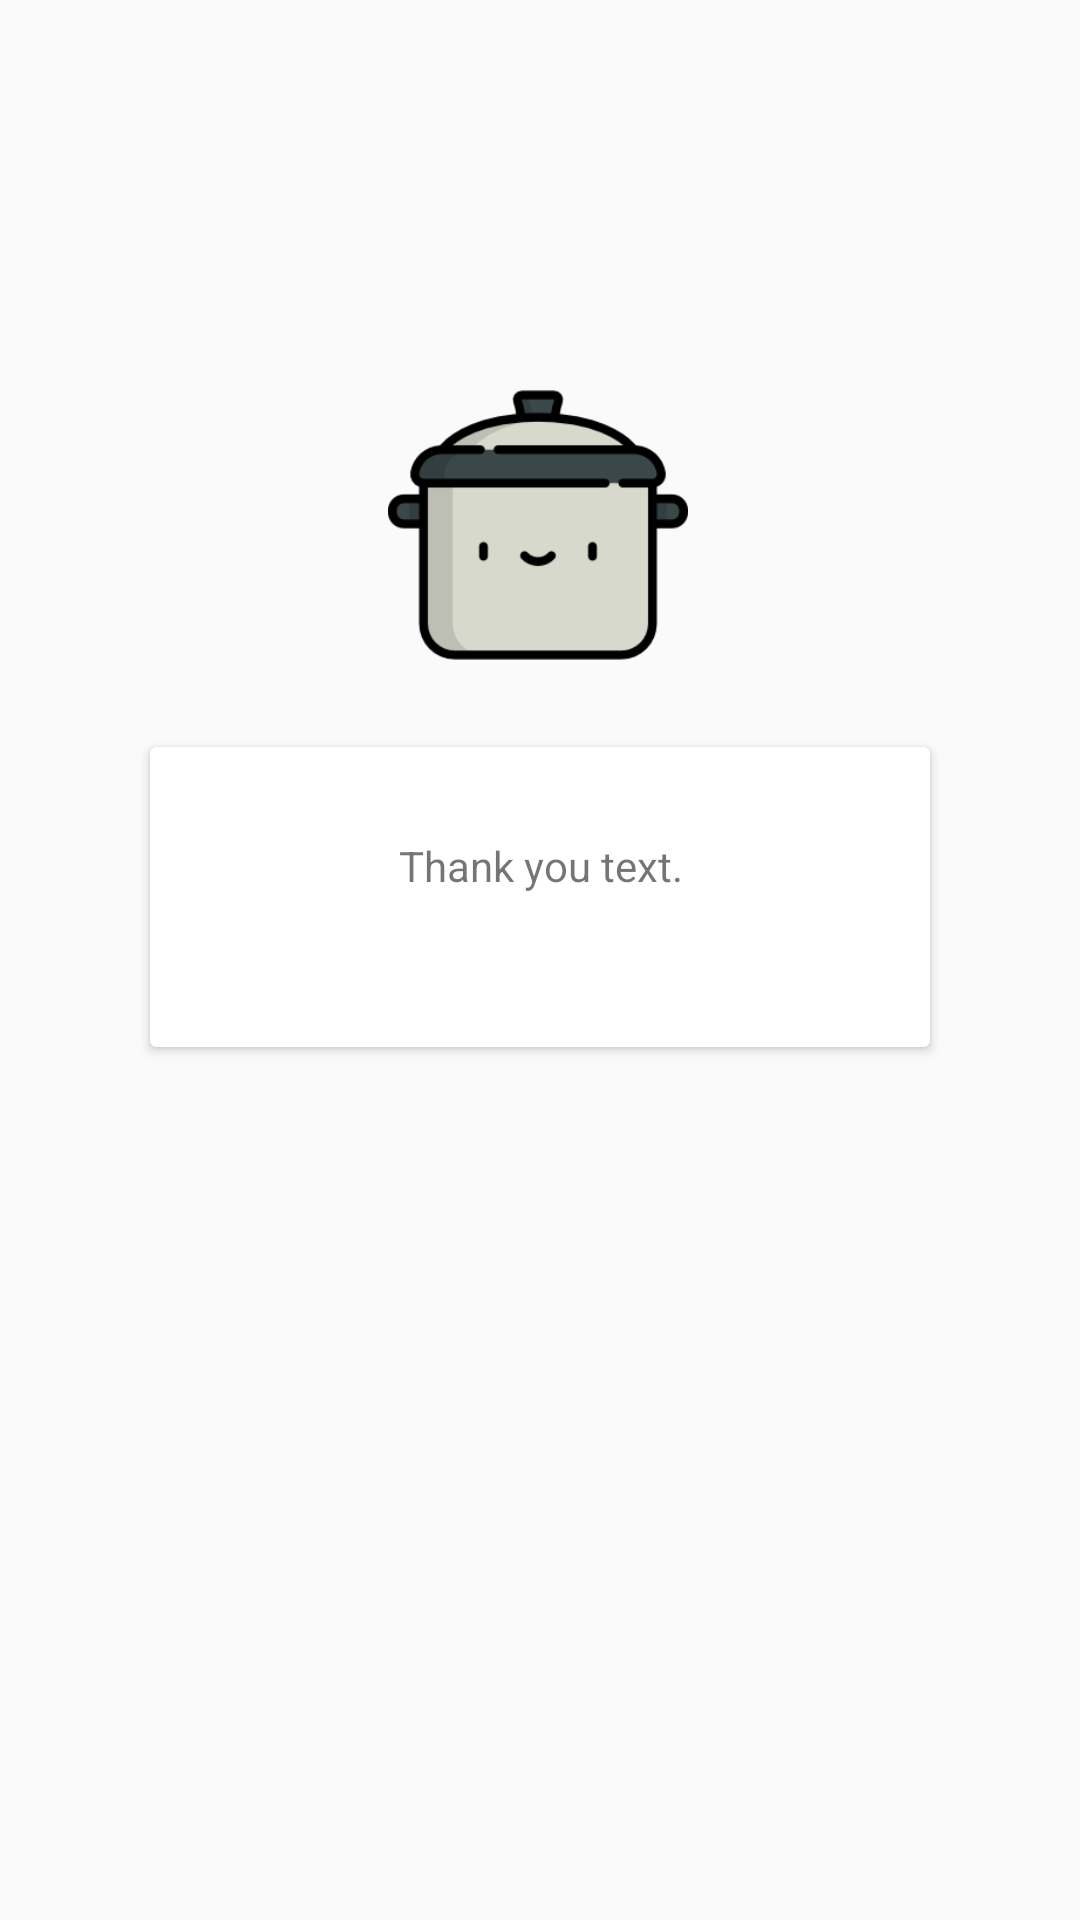

Locate icon controls on the screen. Image size 1080×1920, boxes as bbox=[x1, y1, x2, y2].
cooking pot: bbox=[388, 390, 688, 660]
